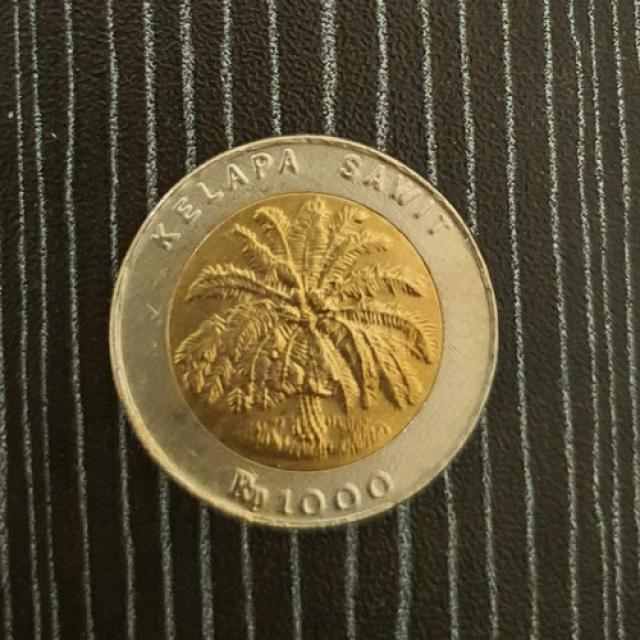1000-sawit: (102, 124, 511, 546)
